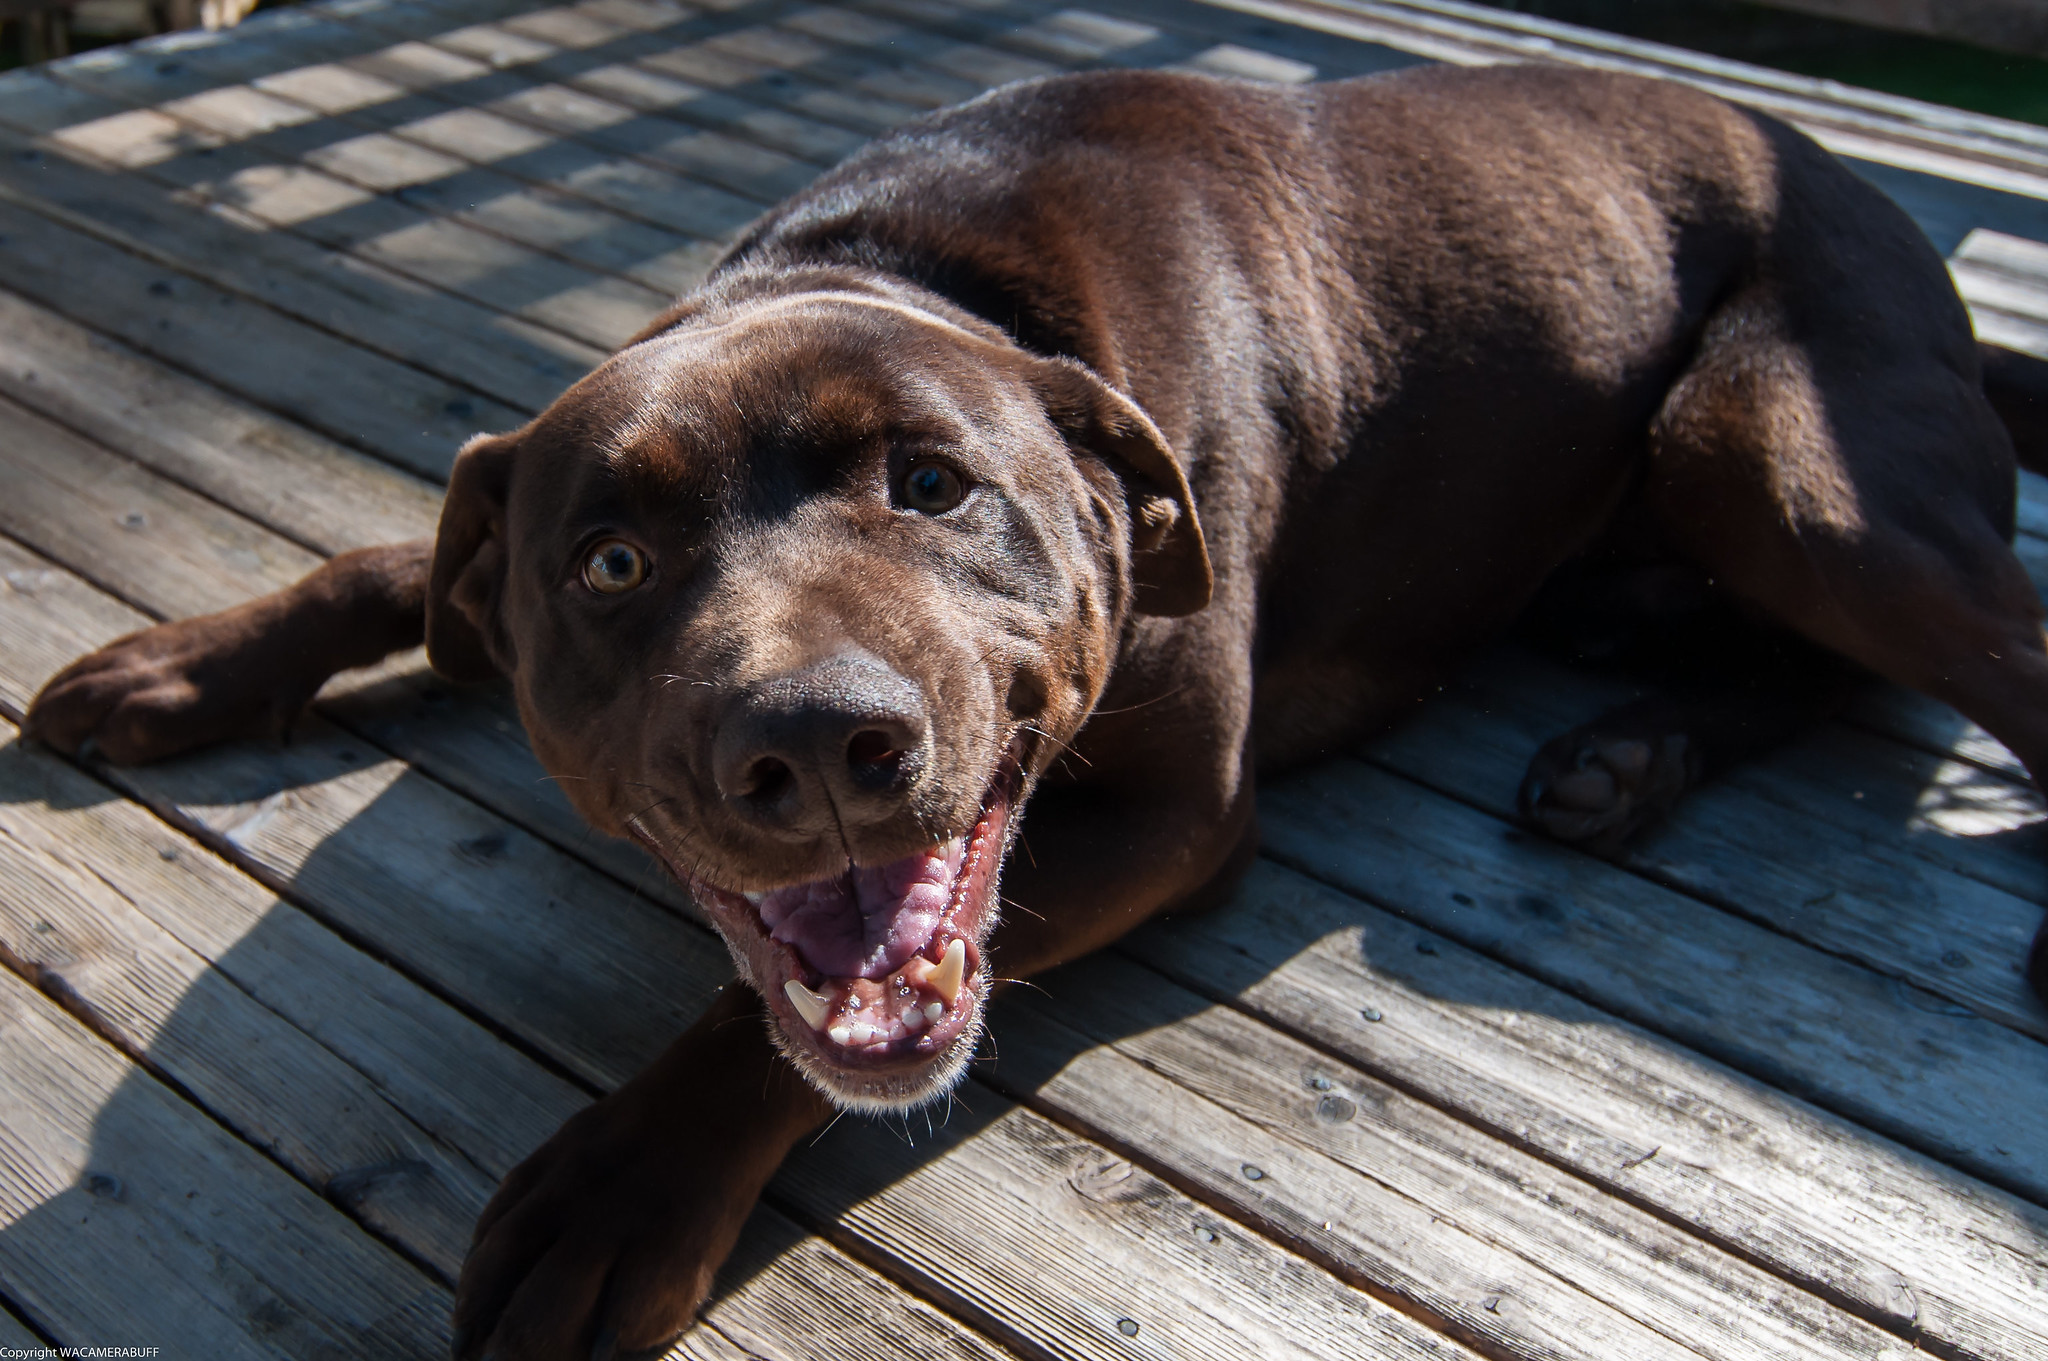dog: (117, 87, 2048, 1284)
